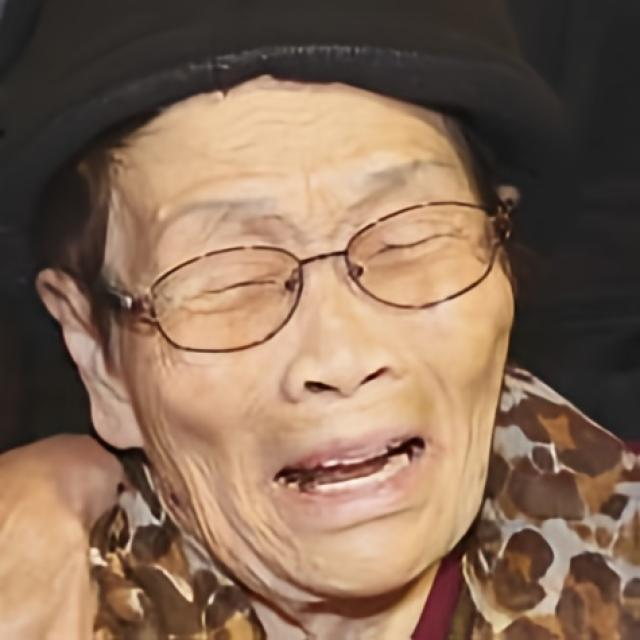disgust: (100, 75, 517, 606)
